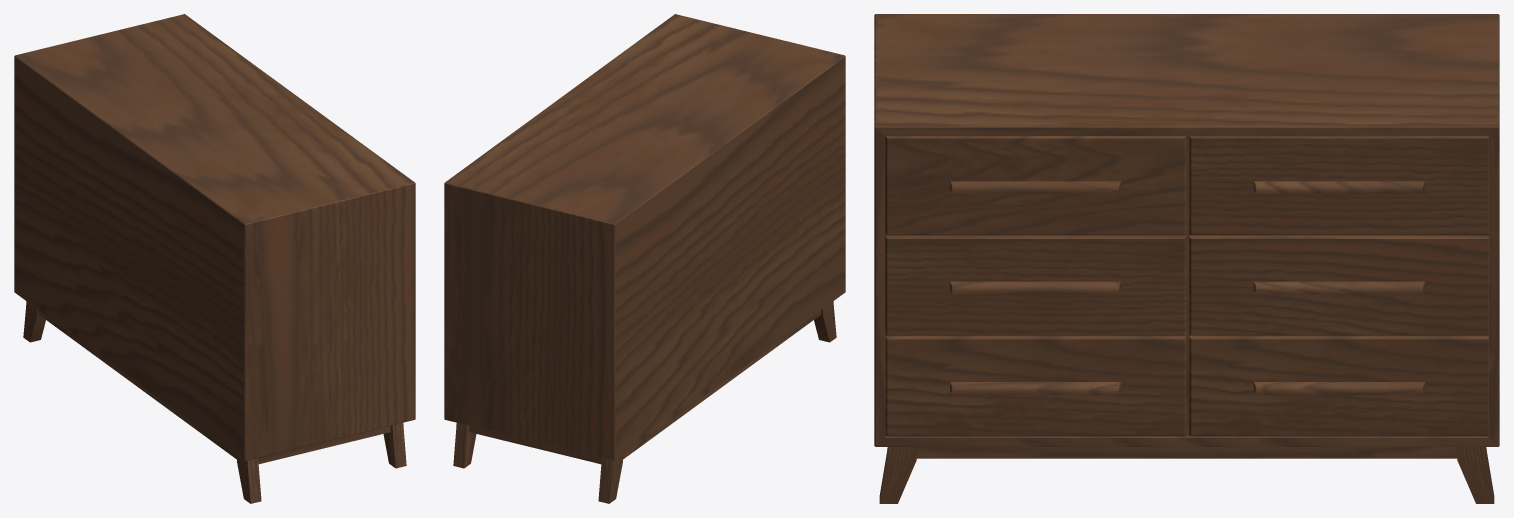
Rendered from dresser.obj.
3 renders of one model, left to right at view 1: azimuth 30°, elevation 25°; view 2: azimuth 150°, elevation 25°; view 3: azimuth 270°, elevation 25°, orthographic. The views are drawn at different scales.
Parts seen in each view (by area): view 1: Cube.027; view 2: Cube.027; view 3: Cube.027.
Boxes of the visible parts, <box> form: Cube.027: <box>14,14,415,503</box>; Cube.027: <box>444,14,845,503</box>; Cube.027: <box>874,14,1499,503</box>.
Size of the model in its own units: 0.5983 by 0.9189 by 1.36.
